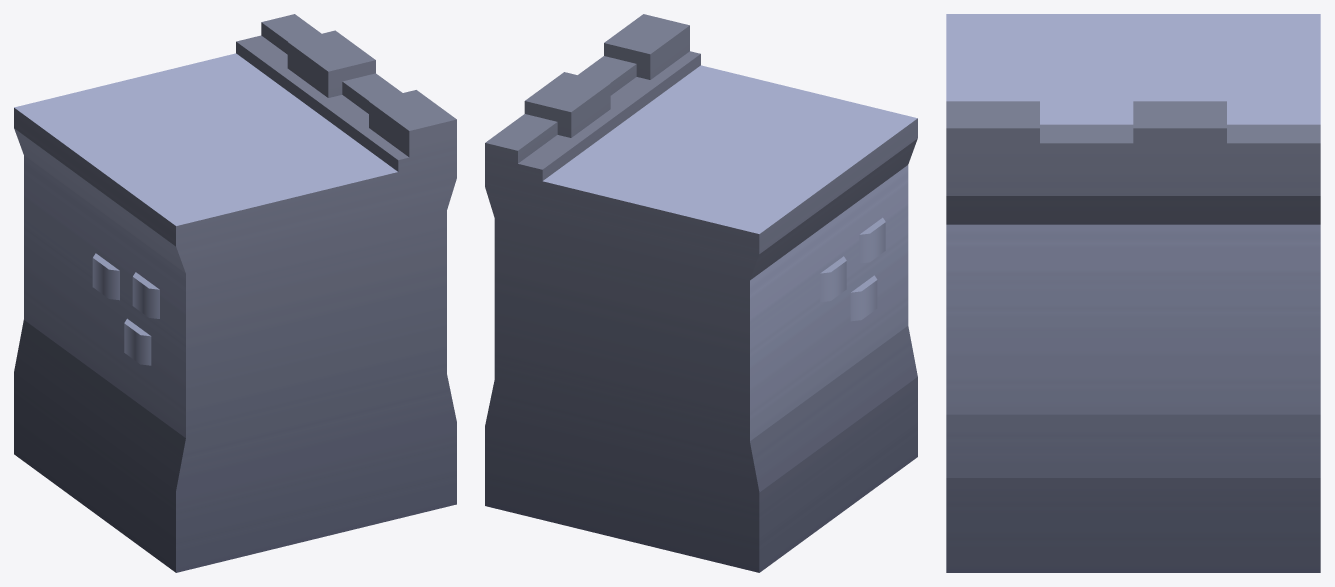
Rendered from wall-half.fbx.
3 renders of one model, left to right at view 1: azimuth 30°, elevation 25°; view 2: azimuth 150°, elevation 25°; view 3: azimuth 270°, elevation 25°, orthographic. The views are drawn at different scales.
Parts seen in each view (by area): view 1: wall-half; view 2: wall-half; view 3: wall-half.
Part boxes in pixels (<box>): wall-half: <box>14,14,456,572</box>; wall-half: <box>485,14,917,572</box>; wall-half: <box>946,14,1320,572</box>.
Size of the model in its own units: 1 by 1 by 1.31.
